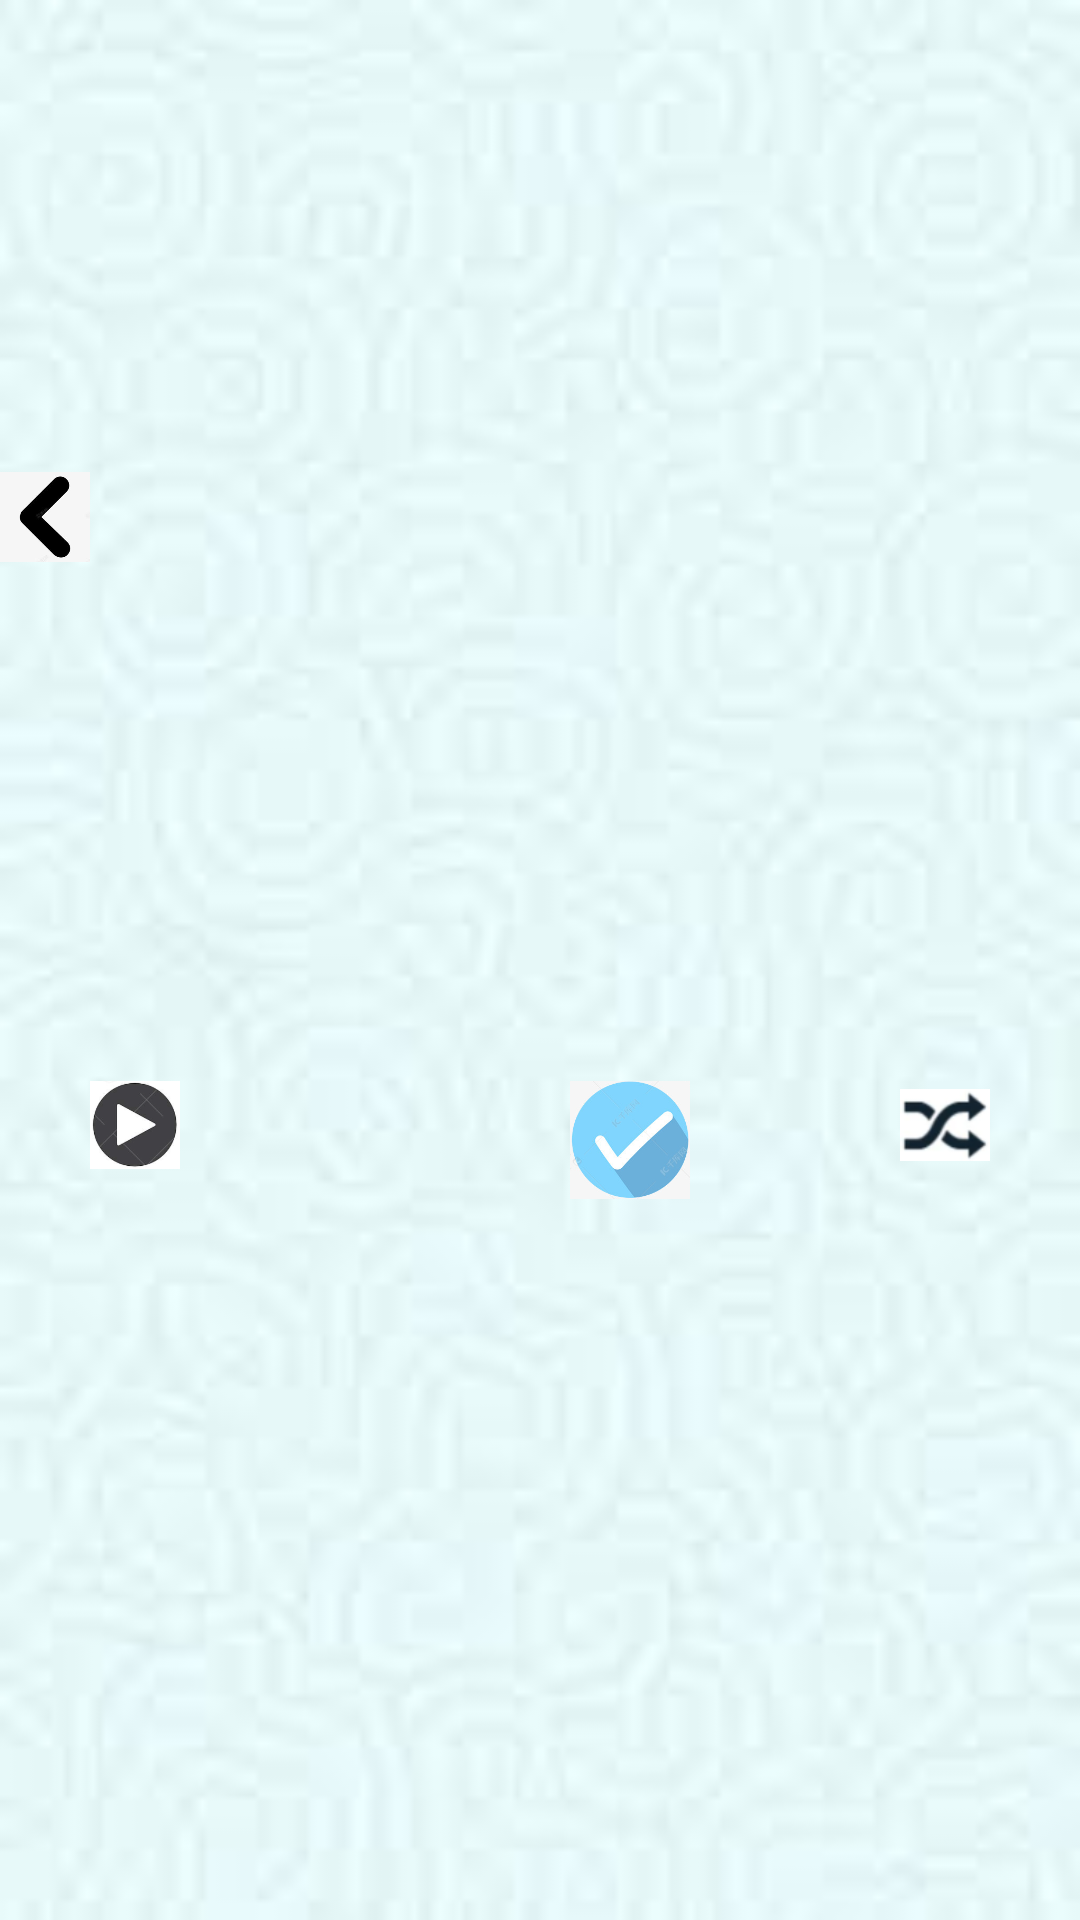

Icon click points for this 1080x1920 phone screenshot, format (x=x, y=y):
play: (x=135, y=1125)
pre: (x=45, y=517)
zhangwo: (x=630, y=1139)
